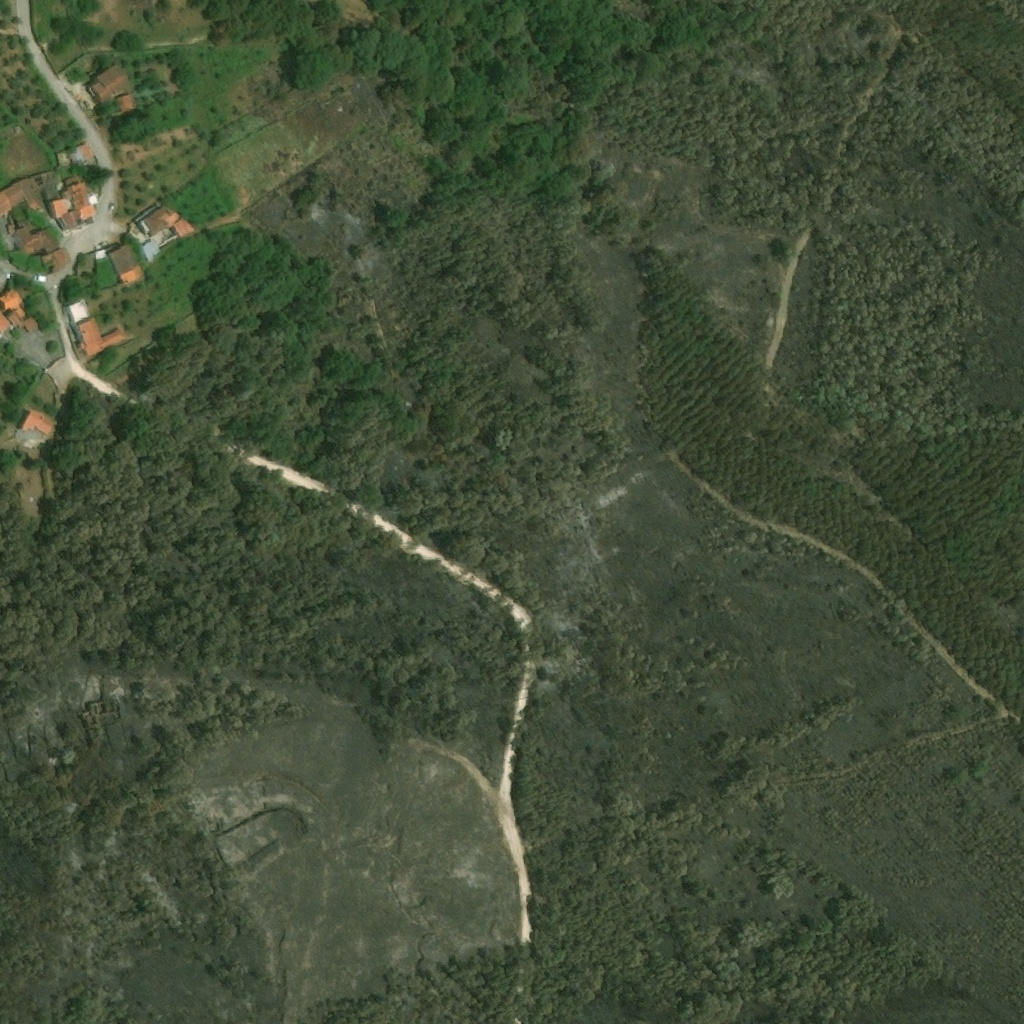0 no-damage: (72, 318, 127, 358), (135, 204, 194, 240), (87, 64, 131, 106), (0, 177, 46, 217), (106, 244, 144, 288), (11, 226, 60, 256), (62, 180, 99, 214), (20, 409, 61, 439), (7, 308, 41, 335), (67, 143, 94, 169), (64, 299, 91, 325), (43, 249, 71, 273), (48, 196, 73, 222), (0, 289, 25, 313), (138, 240, 161, 262), (60, 212, 84, 233), (117, 95, 134, 116), (79, 205, 98, 222), (0, 310, 10, 335), (93, 251, 106, 261)
3 destroyed: (95, 700, 110, 716)
4 un-classified: (39, 174, 57, 198)
